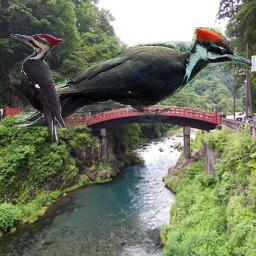Woodpecker: (15, 27, 252, 127), (9, 34, 66, 144)
